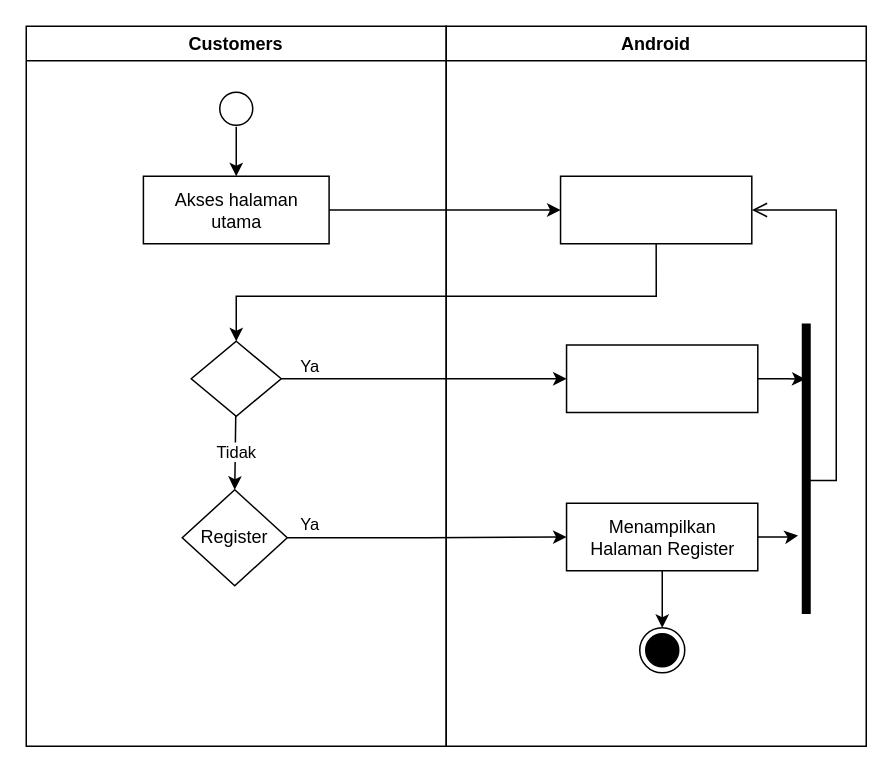
This 893x773 diagram has some shape labels left out. The box of each missing label's shape, as (x1, y1, x2, y2) in pixels:
Login: (190, 340, 281, 416)
Menampilkan Halaman Login: (565, 344, 758, 412)
Menampilkan halaman utama: (559, 175, 752, 244)
